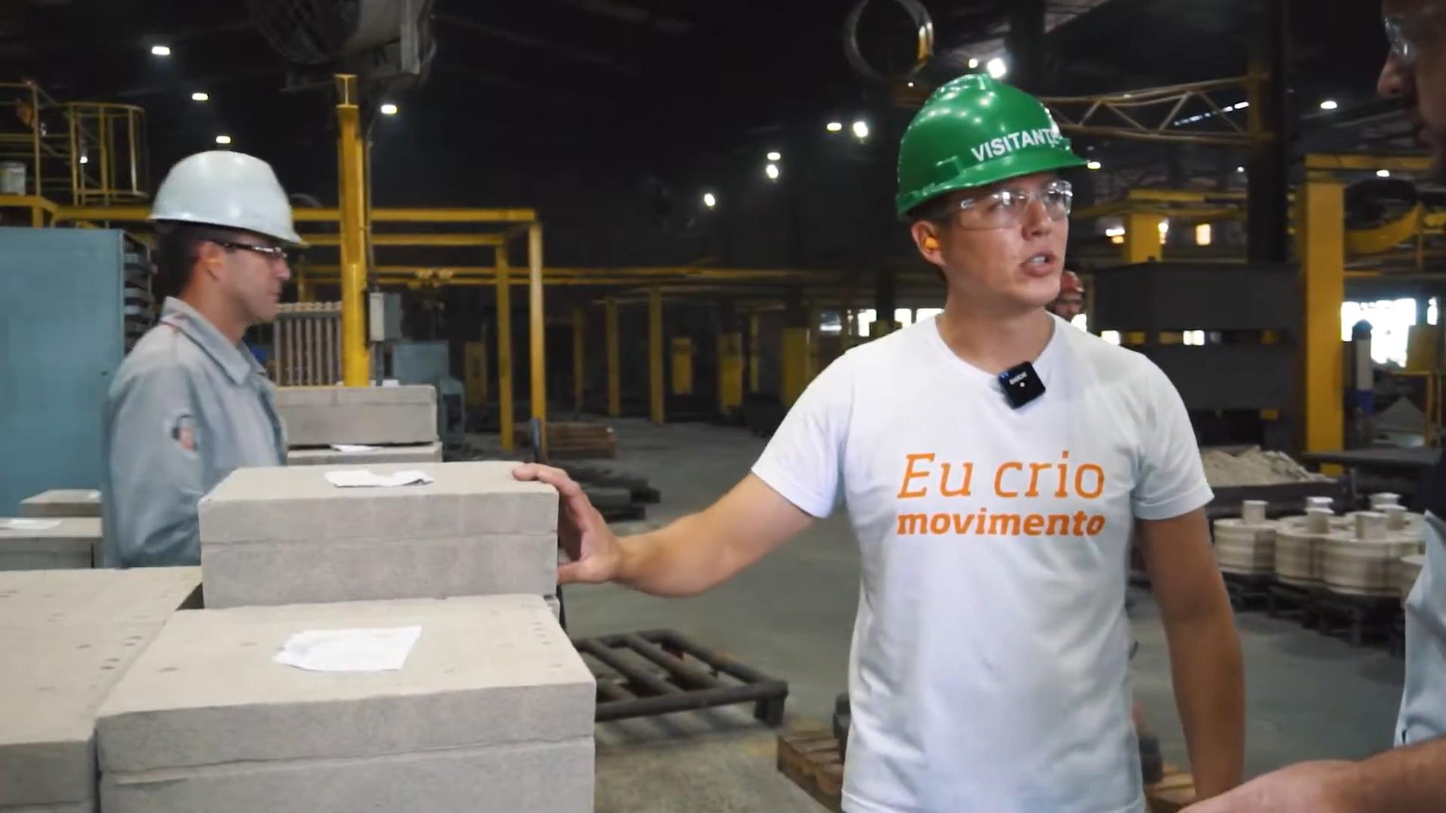goggles: (910, 177, 1092, 226), (196, 225, 294, 269)
helmet: (132, 126, 318, 336), (877, 60, 1102, 223)
